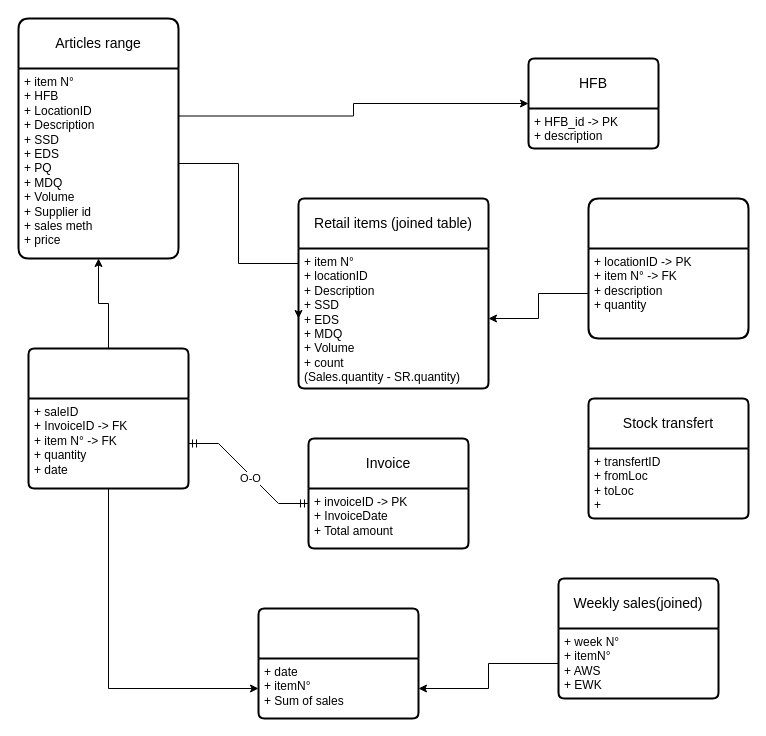
The diagram is 766 pixels wide and 736 high, and some of its shapes have lost their labels. The shapes that lost their labels are listed below. From the top down, each one's box as (x1, y1, x2, y2) in pixels, then its label:
(587, 197, 749, 339): stock range
(27, 347, 189, 489): Sales
(257, 607, 419, 719): Sales history (joined table)
